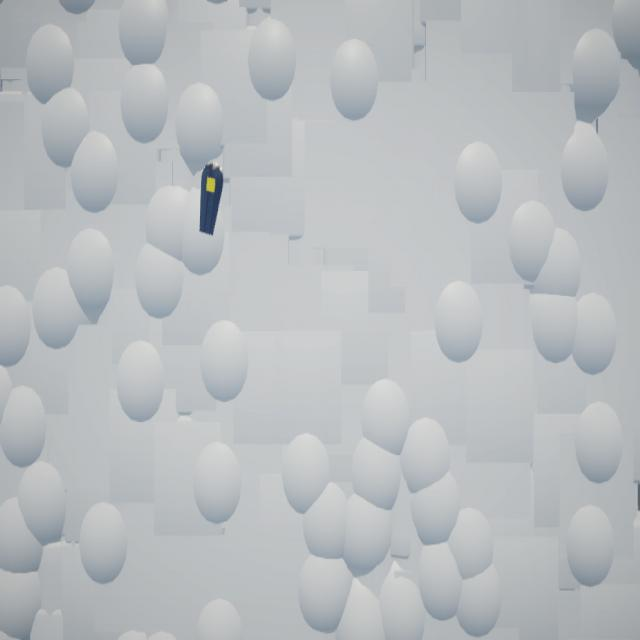handle_folk: (200, 164, 224, 237)
